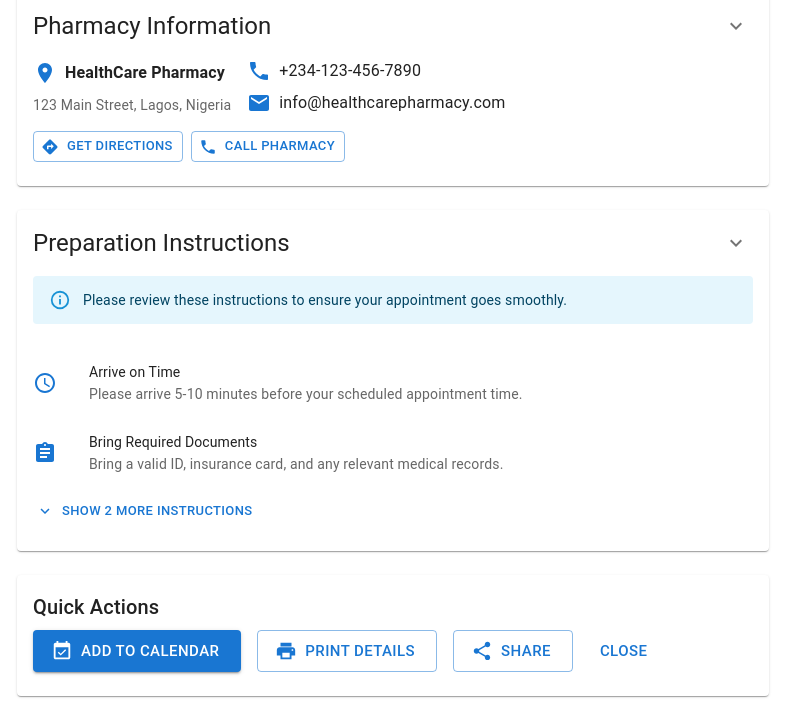
Test case: AppointmentConfirmation › Appointment Type Specific Instructions › shows vaccination-specific instructions for vaccination appointments
This screenshot has width=787, height=705.
(page scrolled)
Need to expand to see all instructions
What coordinates should you click on to do the following:
click the button "Show 2 more instructions"
I would click on:
 (145, 511)
Its box is x1=33 y1=496 x2=258 y2=527.
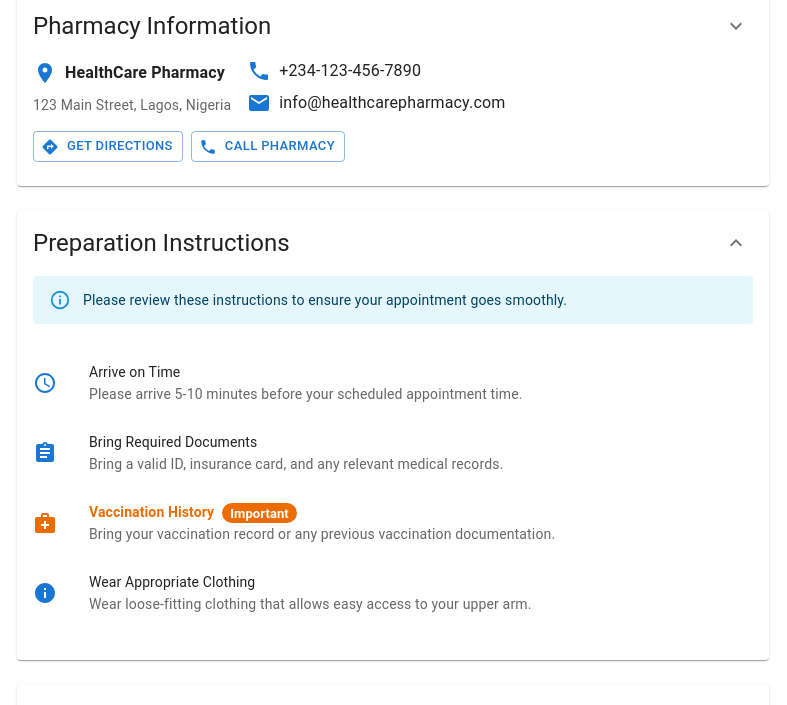
Result: the heading "Vaccination History Important" is shown at x1=89 y1=503 x2=297 y2=523
Result: the heading "Wear Appropriate Clothing" is shown at x1=89 y1=574 x2=255 y2=590
